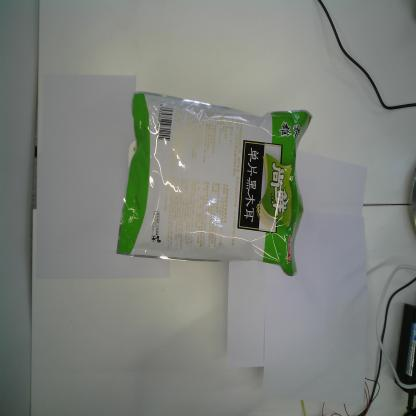Dried Food: (115, 88, 313, 278)
